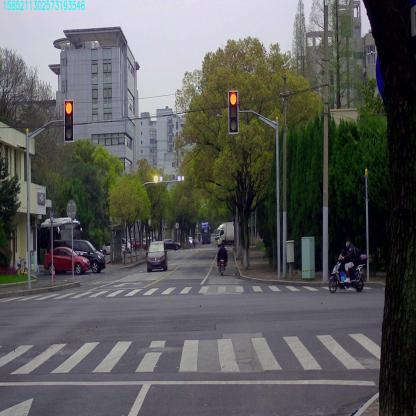traffic-light: (64, 99, 74, 142), (228, 92, 238, 132)
